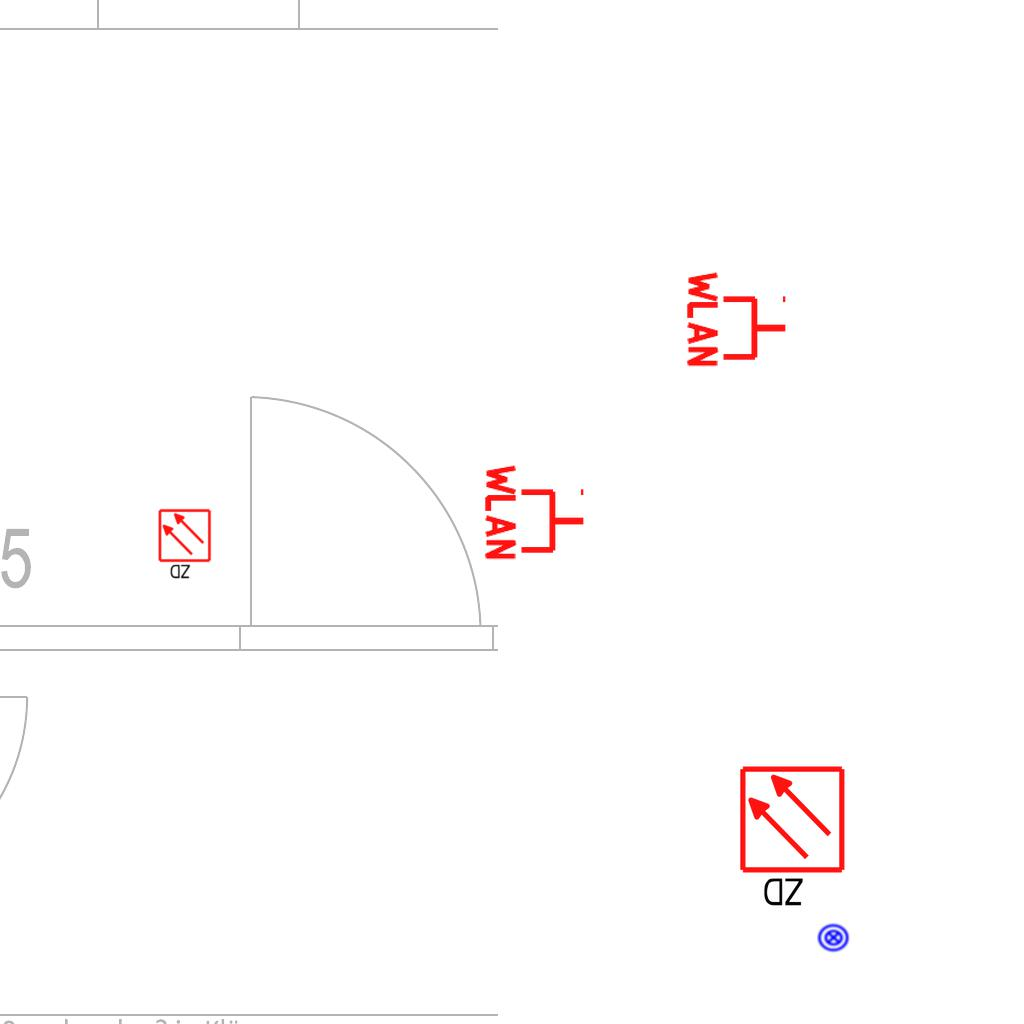Taster_beleuchtet: (817, 921, 850, 954)
WLAN: (483, 460, 588, 564), (685, 267, 790, 371)
ZD_Melder_in_Zwischendecke_mit_Revisionsoeffnung_mind_40_x_40_cm: (737, 764, 851, 913), (157, 508, 214, 582)
